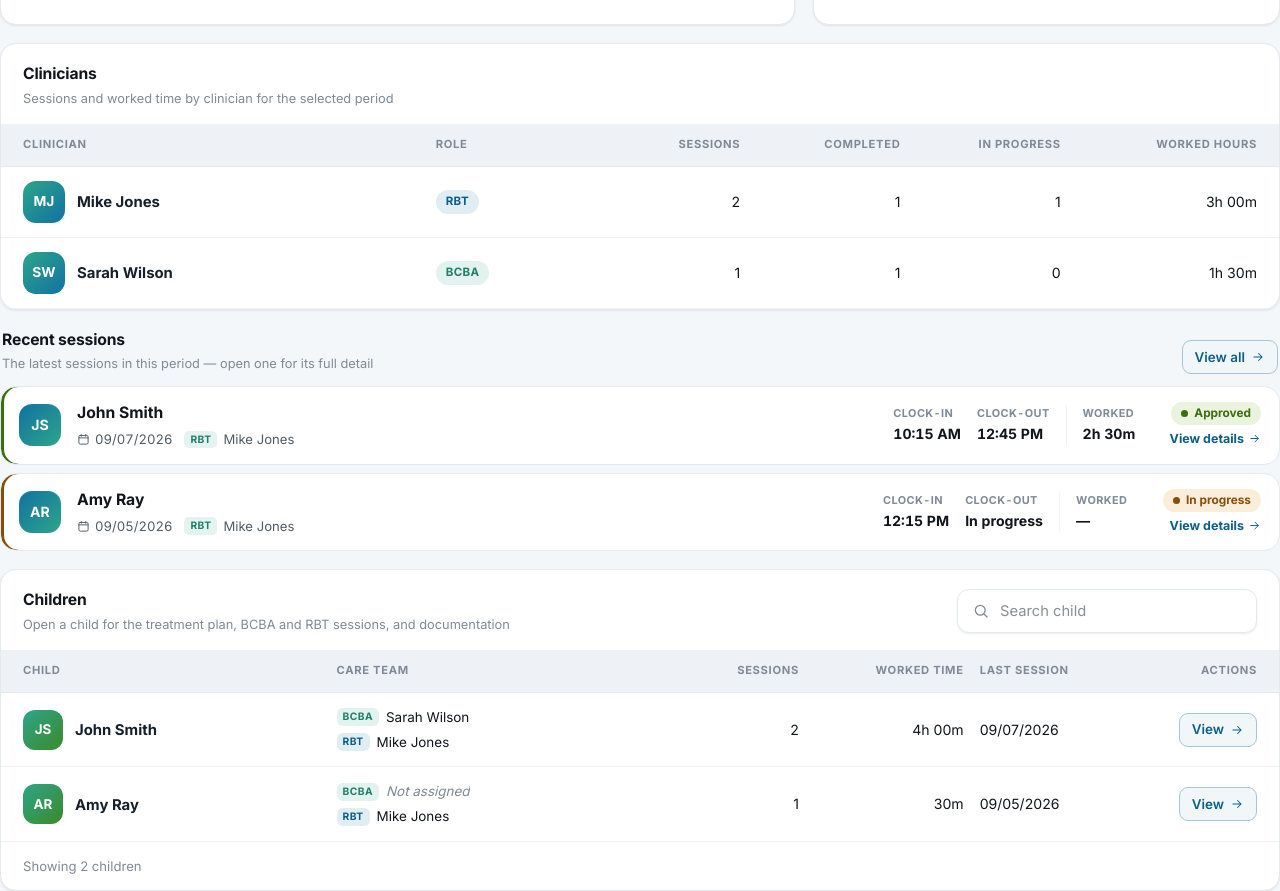
Scenario: AdminSessionOversightPage (Session Insights) › opens child detail: treatment plan tree, RBT documentation, separate BCBA/RBT times (90 vs 150)
The image size is (1280, 891).
(page scrolled)
Click the list item that starts with "John Smith". click: (640, 730)
box: [1, 693, 1279, 768]
(page scrolled)
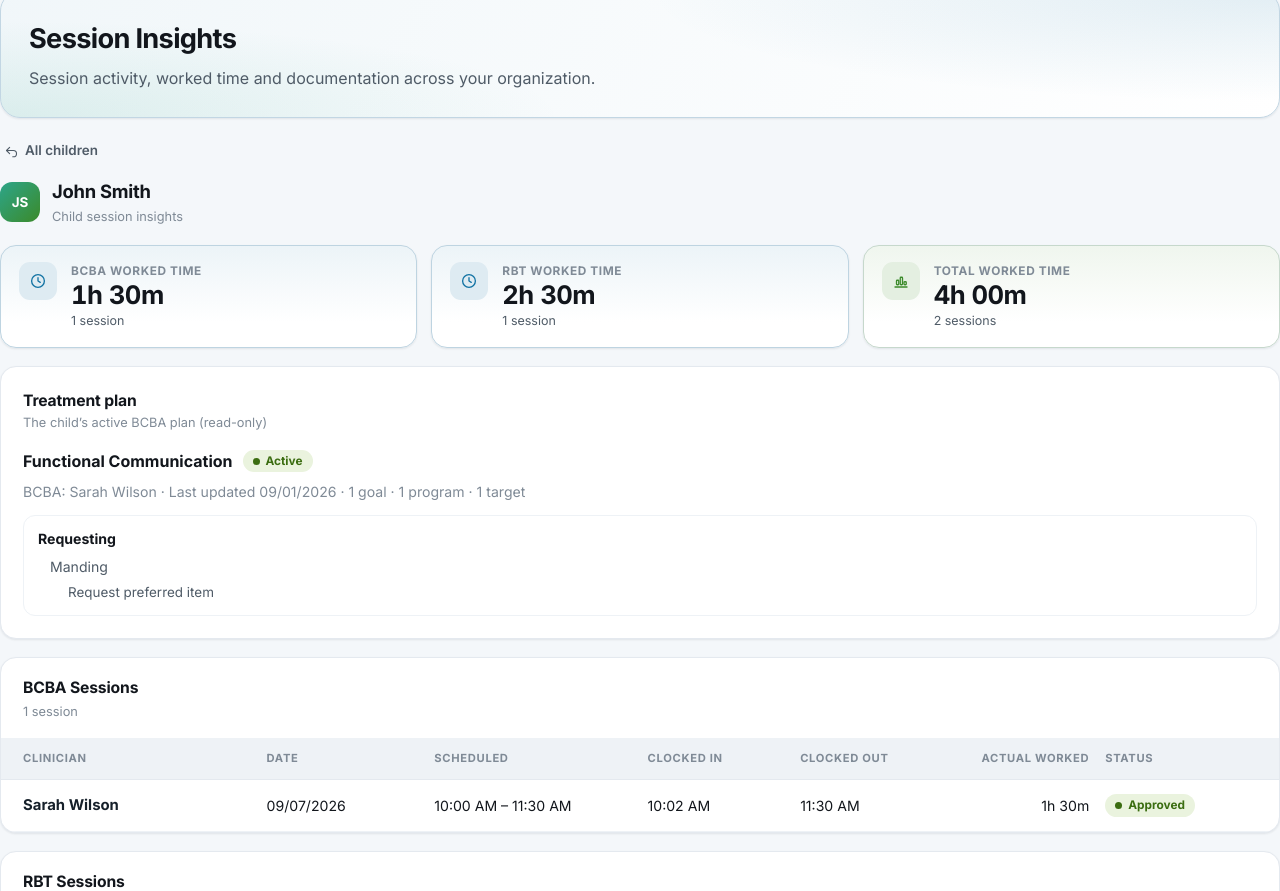
Expected: the text "Functional Communication" is shown, [23, 449, 232, 474]
Expected: the text "Requesting" is shown, [38, 530, 116, 547]
Expected: the text "Manding" is shown, [50, 558, 108, 575]
